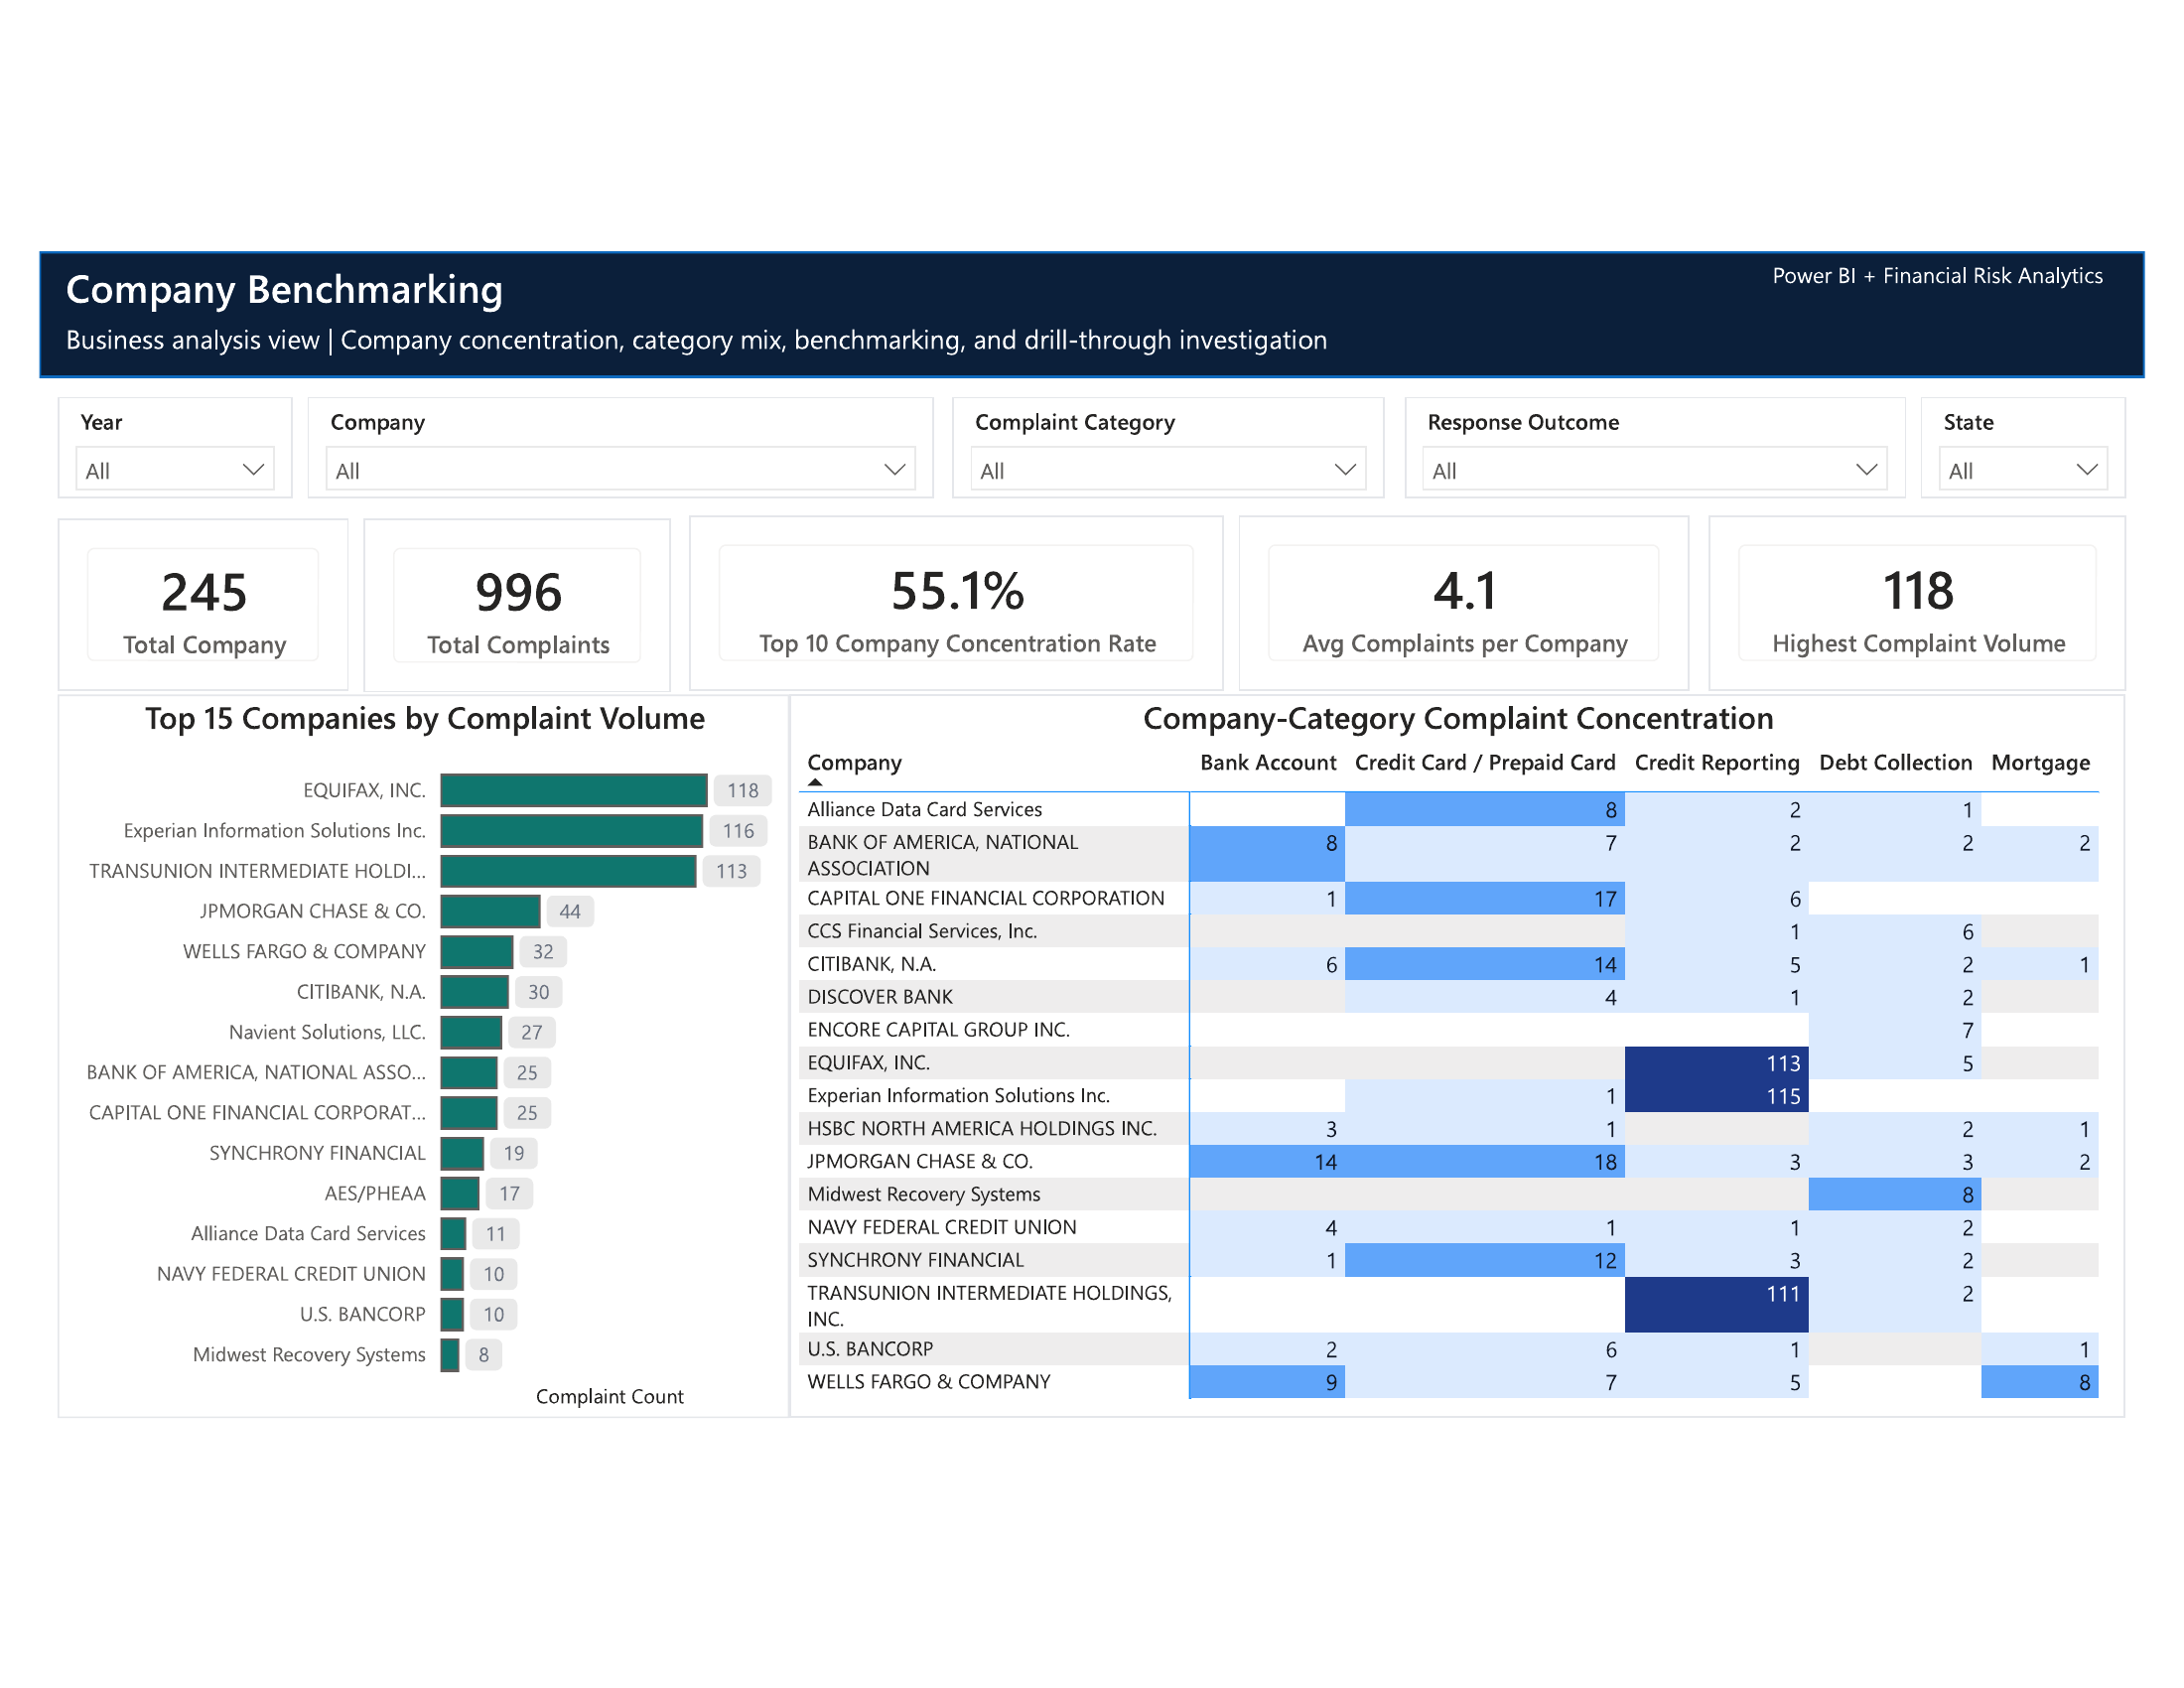

The page's visual inventory and layout, read from the dashboard file:
{"tool":"powerbi","page":{"name":"Company Benchmarking","canvas":[1280,720],"ordinal":2},"visuals":[{"type":"shape","box":[0,0,1280,76],"z":0},{"type":"textbox","box":[10.9,0,279.9,47.1],"z":1000},{"type":"textbox","box":[10.9,37.4,779.4,38.6],"z":2000},{"type":"textbox","box":[1040,0,229.2,37.4],"z":3000},{"type":"slicer","fields":{"Values":["Dim_Date.Year"]},"box":[10.9,88.1,143.6,61.5],"z":4000},{"type":"slicer","fields":{"Values":["Dim_Company.Company"]},"box":[162.9,88.1,381.2,61.5],"z":5000},{"type":"slicer","fields":{"Values":["Dim_Category.CategoryDisplay"]},"box":[554.8,88.1,262.9,61.9],"z":6000},{"type":"slicer","fields":{"Values":["Dim_Response.CompanyResponse"]},"box":[830,88.1,305.2,61.5],"z":7000},{"type":"slicer","fields":{"Values":["Dim_State.State"]},"box":[1144,88.1,125.3,61.9],"z":8000},{"type":"cardVisual","fields":{"Data":["_Measures.Company Count"]},"box":[10.9,161.7,177.3,105],"z":9000},{"type":"cardVisual","fields":{"Data":["_Measures.Top 10 Company Concentration Rate"]},"box":[394.5,160.5,325.7,106.2],"z":10000},{"type":"cardVisual","fields":{"Data":["_Measures.Avg Complaints per Company"]},"box":[728.7,160.5,273.9,106.2],"z":11000},{"type":"cardVisual","fields":{"Data":["_Measures.Highest Company Complaint Count"]},"box":[1014.6,160.5,254.6,106.2],"z":12000},{"type":"cardVisual","fields":{"Data":["_Measures.Complaint Count"]},"box":[196.6,161.7,187,106.2],"z":13000},{"type":"clusteredBarChart","title":"Top 15 Companies by Complaint Volume","fields":{"Category":["Dim_Company.Company"],"Y":["_Measures.Complaint Count"]},"box":[10.9,269,445.2,440.4],"z":14000},{"type":"pivotTable","title":"Company-Category Complaint Concentration","fields":{"Rows":["Dim_Company.Company"],"Columns":["Dim_Category.Complaint Category"],"Values":["_Measures.Complaint Count"]},"box":[456,269,811.9,440.4],"z":15000}]}

Visuals, with their boxes on the page's 1280x720 design canvas (x1, y1, x2, y2). These are canvas units, not pixel positions in the 2184x1688 screenshot, which may show the page scaled, cropped or inside an application window:
shape: detection(0, 0, 1280, 76)
textbox: detection(11, 0, 291, 47)
textbox: detection(11, 37, 790, 76)
textbox: detection(1040, 0, 1269, 37)
slicer - Dim_Date.Year: detection(11, 88, 154, 150)
slicer - Dim_Company.Company: detection(163, 88, 544, 150)
slicer - Dim_Category.CategoryDisplay: detection(555, 88, 818, 150)
slicer - Dim_Response.CompanyResponse: detection(830, 88, 1135, 150)
slicer - Dim_State.State: detection(1144, 88, 1269, 150)
cardVisual - _Measures.Company Count: detection(11, 162, 188, 267)
cardVisual - _Measures.Top 10 Company Concentration Rate: detection(394, 160, 720, 267)
cardVisual - _Measures.Avg Complaints per Company: detection(729, 160, 1003, 267)
cardVisual - _Measures.Highest Company Complaint Count: detection(1015, 160, 1269, 267)
cardVisual - _Measures.Complaint Count: detection(197, 162, 384, 268)
"Top 15 Companies by Complaint Volume" clusteredBarChart: detection(11, 269, 456, 709)
"Company-Category Complaint Concentration" pivotTable: detection(456, 269, 1268, 709)
